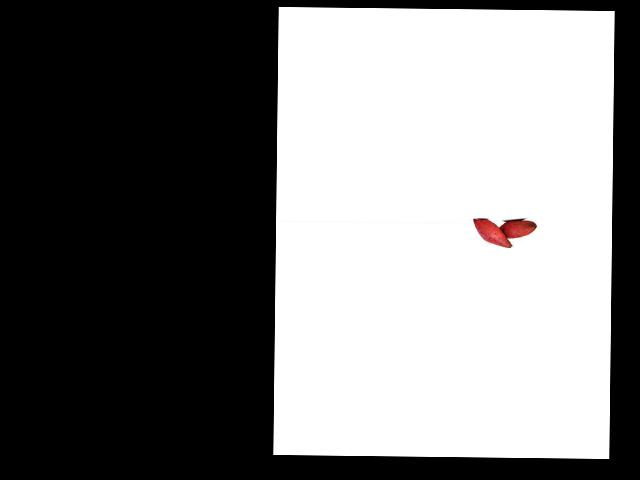sweet_potato: (496, 219, 538, 241)
